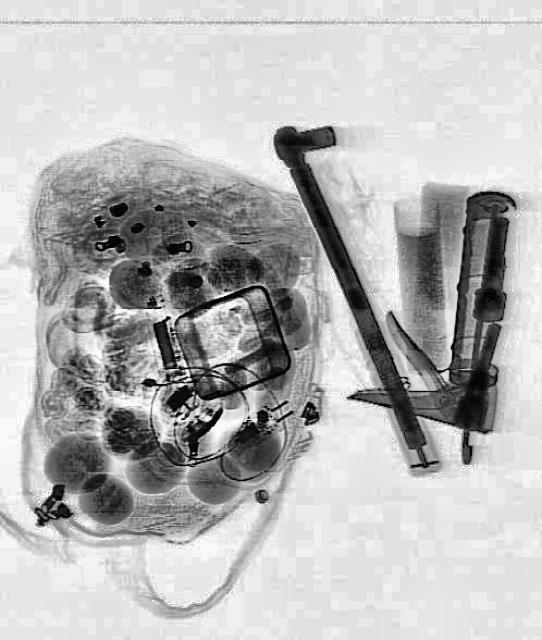Knife: (342, 173, 522, 434)
